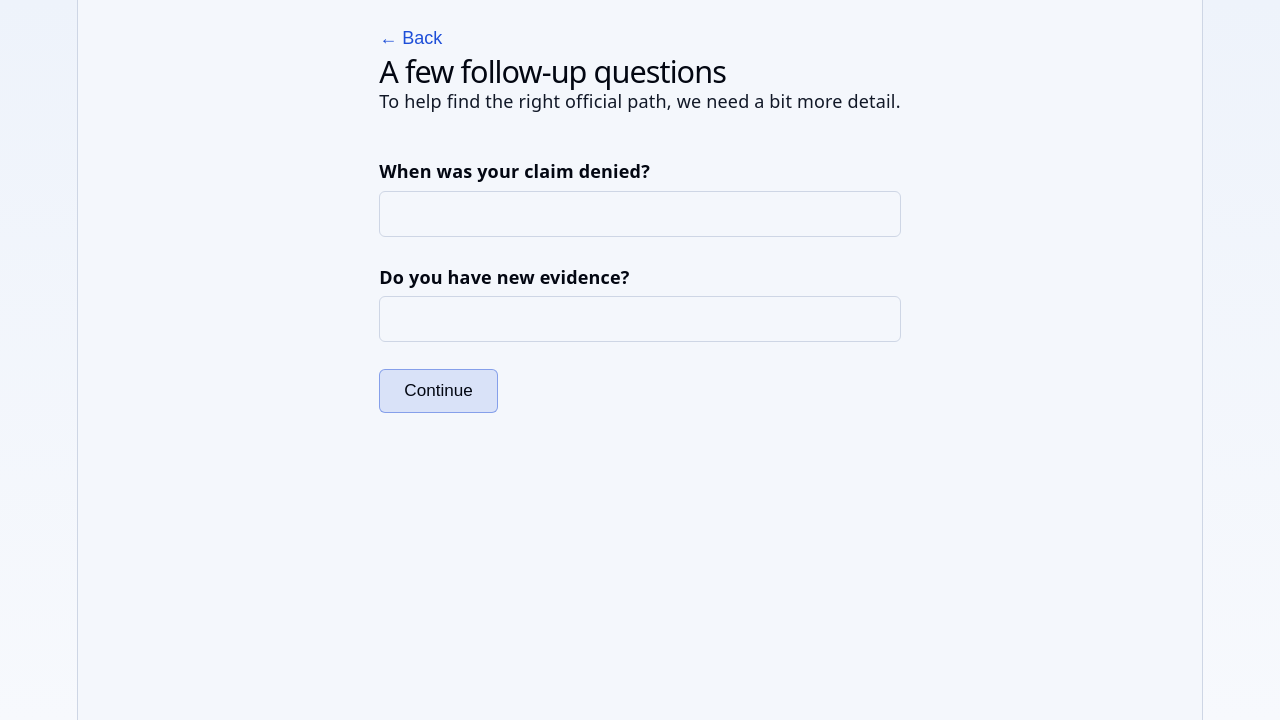
FollowUpPage › shows an error when analyzeSession rejects
Click the button "Continue".
click(438, 391)  # box [379,369,498,413]
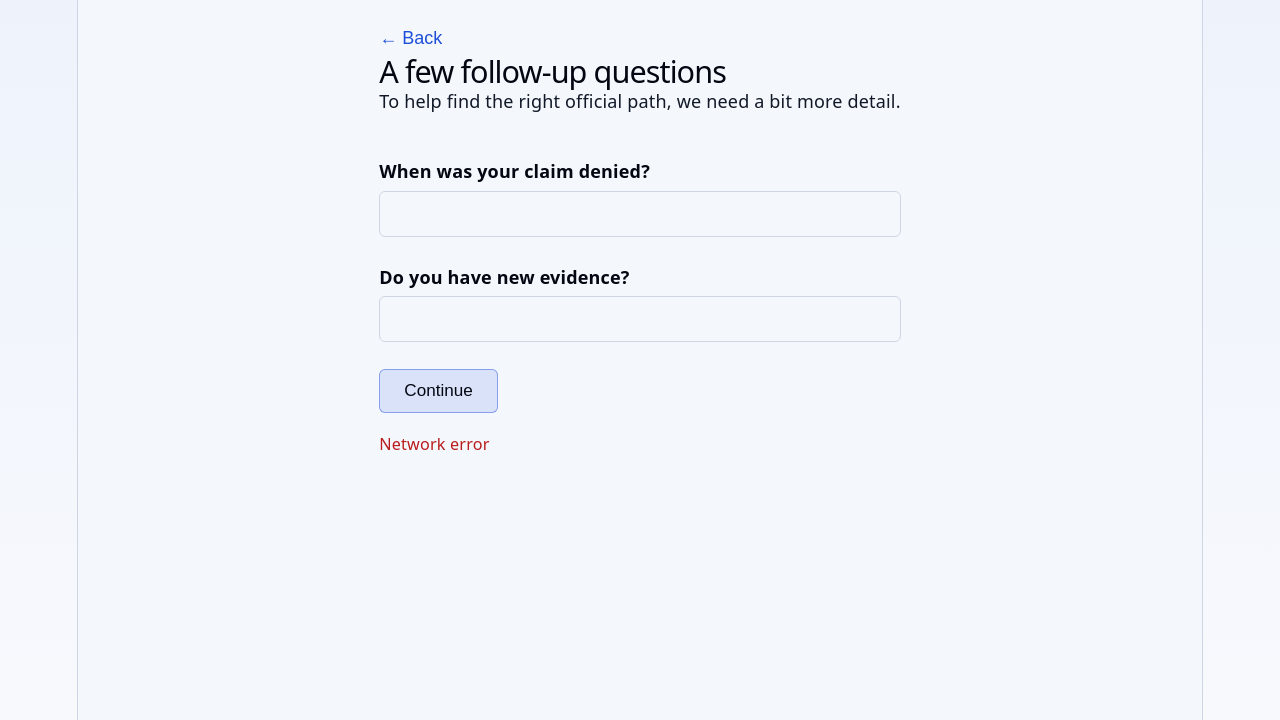
Check: the text "Network error" is shown, box [379,433,490,455]
